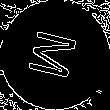M_E: (25, 27, 85, 83)
